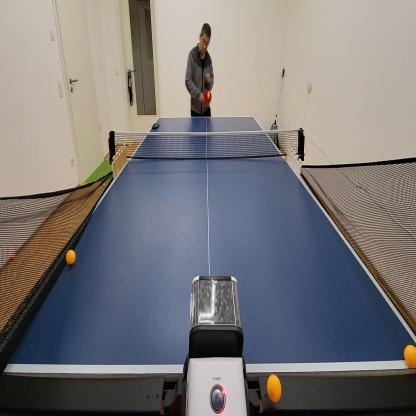Ball: (266, 374, 283, 402), (404, 343, 416, 368), (66, 248, 76, 265), (12, 250, 16, 258), (207, 92, 210, 99), (103, 183, 105, 187)
